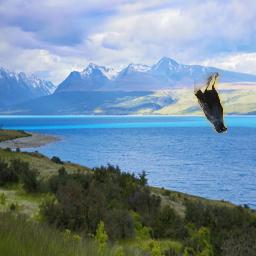Crow: (195, 73, 228, 134)
